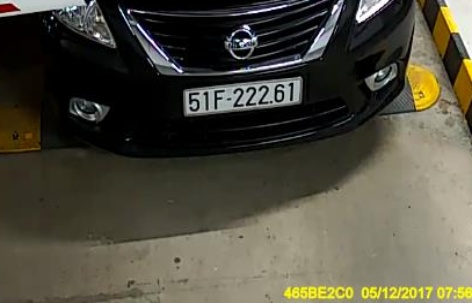plate: (174, 65, 306, 116)
